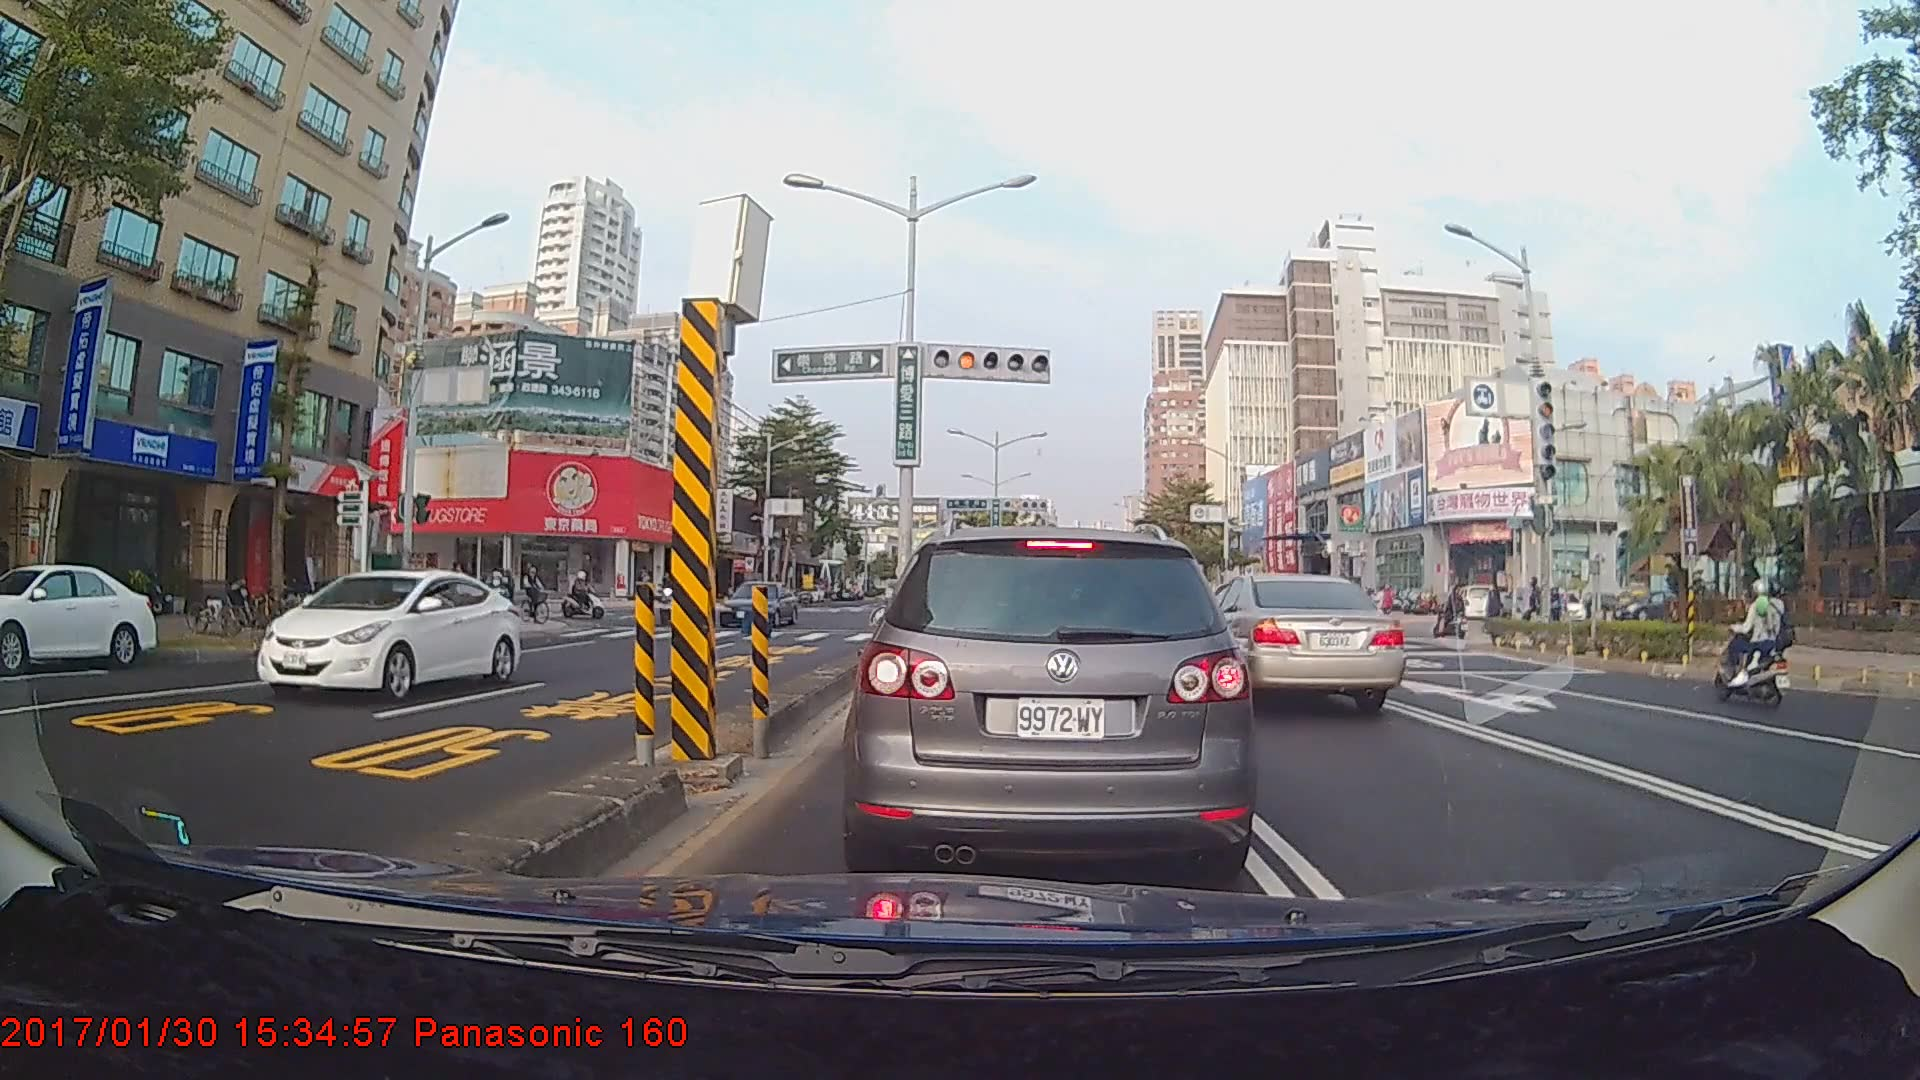pedestrian: (1484, 579, 1508, 637), (448, 558, 468, 621)
rider: (1710, 576, 1800, 708), (561, 568, 613, 625), (518, 559, 553, 629), (1436, 582, 1473, 646)
vehicle: (851, 523, 1248, 876), (254, 567, 520, 703), (1196, 571, 1404, 716), (0, 561, 167, 671), (716, 579, 799, 627)
